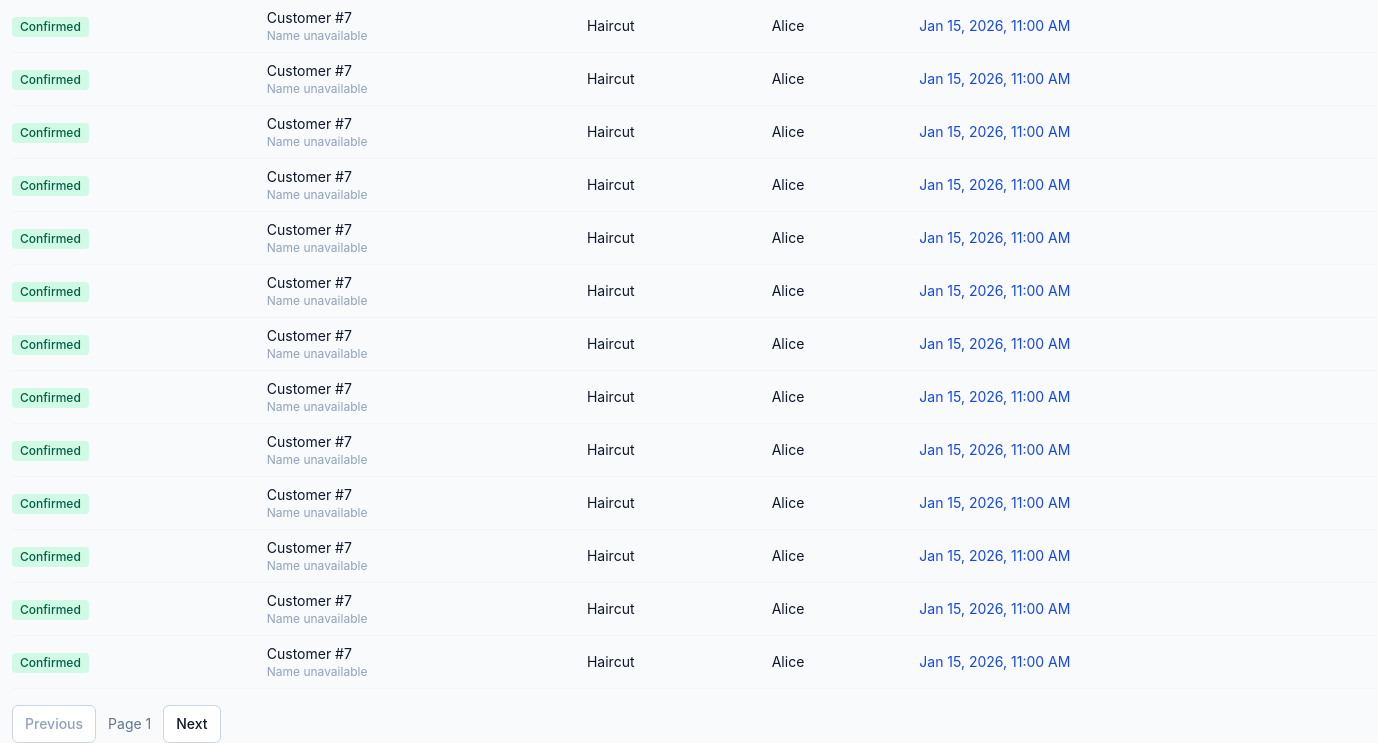
BookingsListClient › Previous is disabled on page 1 and Next advances the page
(page scrolled)
Check: the button "Previous" is disabled, box x1=12 y1=705 x2=96 y2=742
Click the button "Next".
click(192, 724)  # box x1=163 y1=705 x2=221 y2=742
(page scrolled)
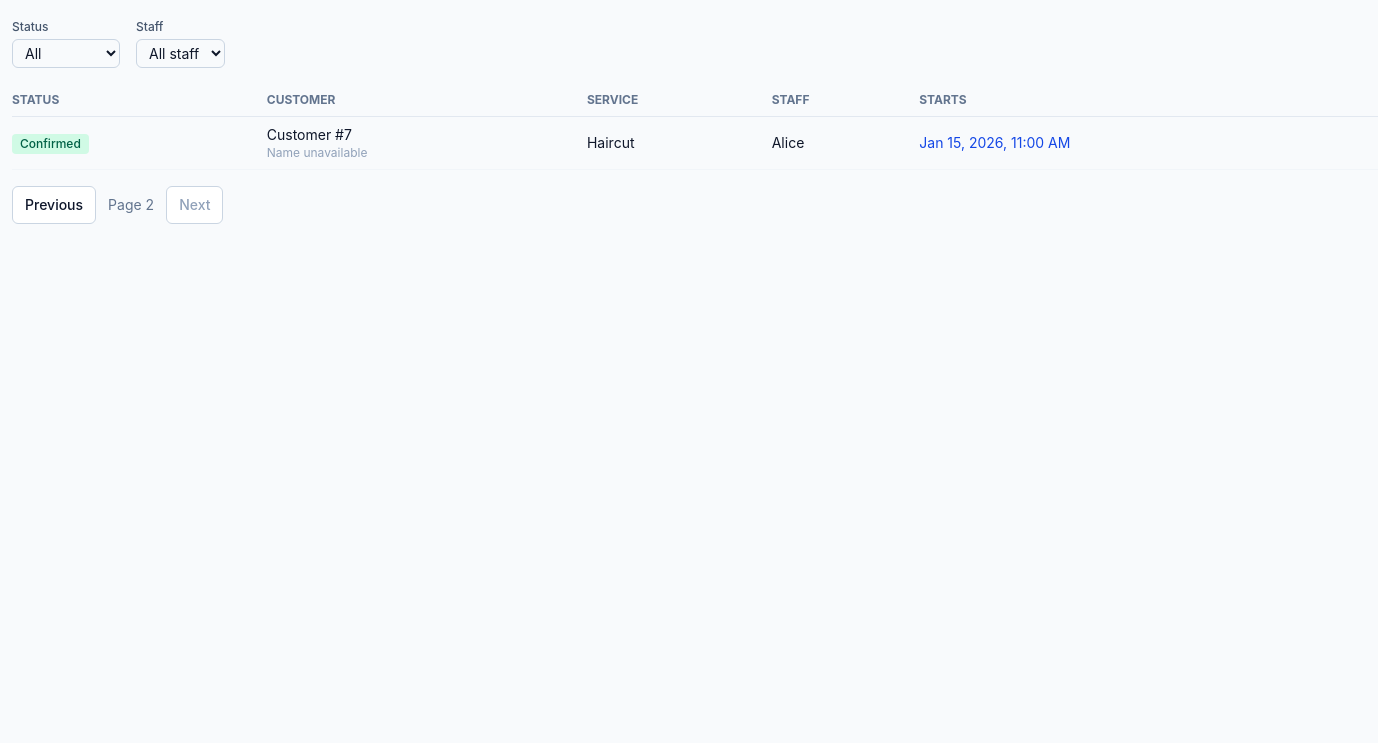
Check: the text "Page 2" is shown, box x1=108 y1=195 x2=154 y2=215
